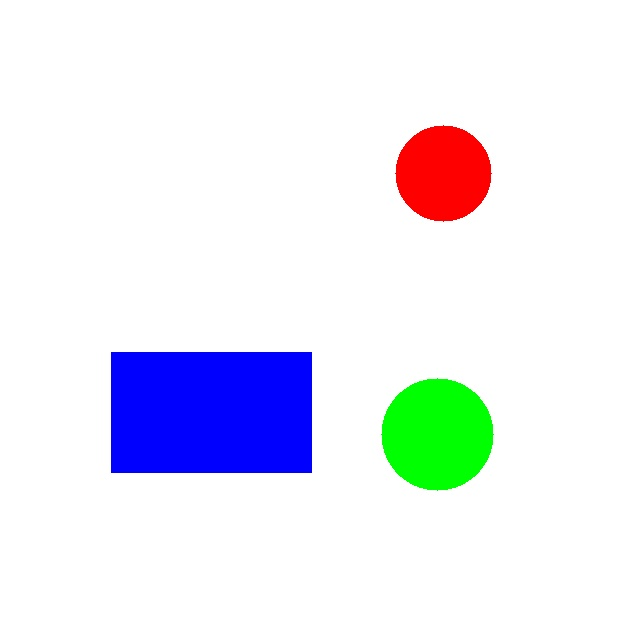cartao: (111, 352, 311, 472)
rosca_externa: (381, 378, 493, 490)
rosca_interna: (395, 125, 491, 221)
